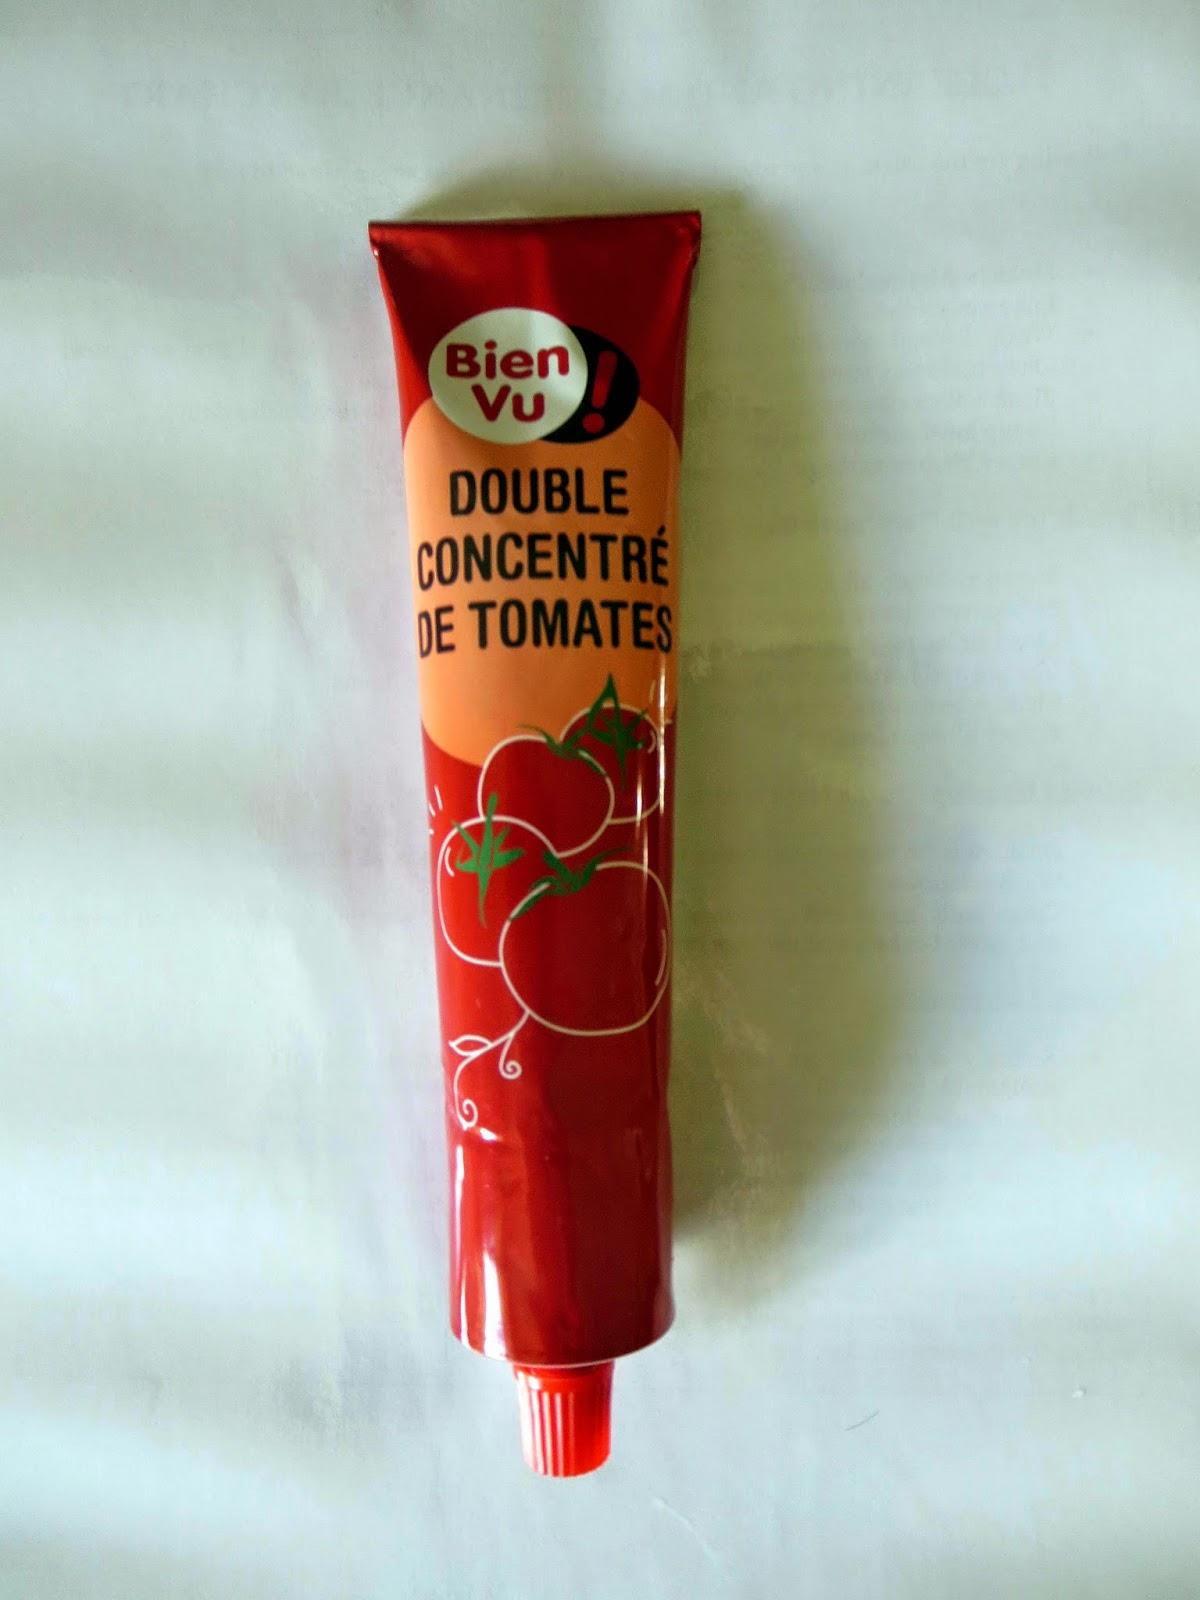toothpaste: (350, 181, 753, 1523)
